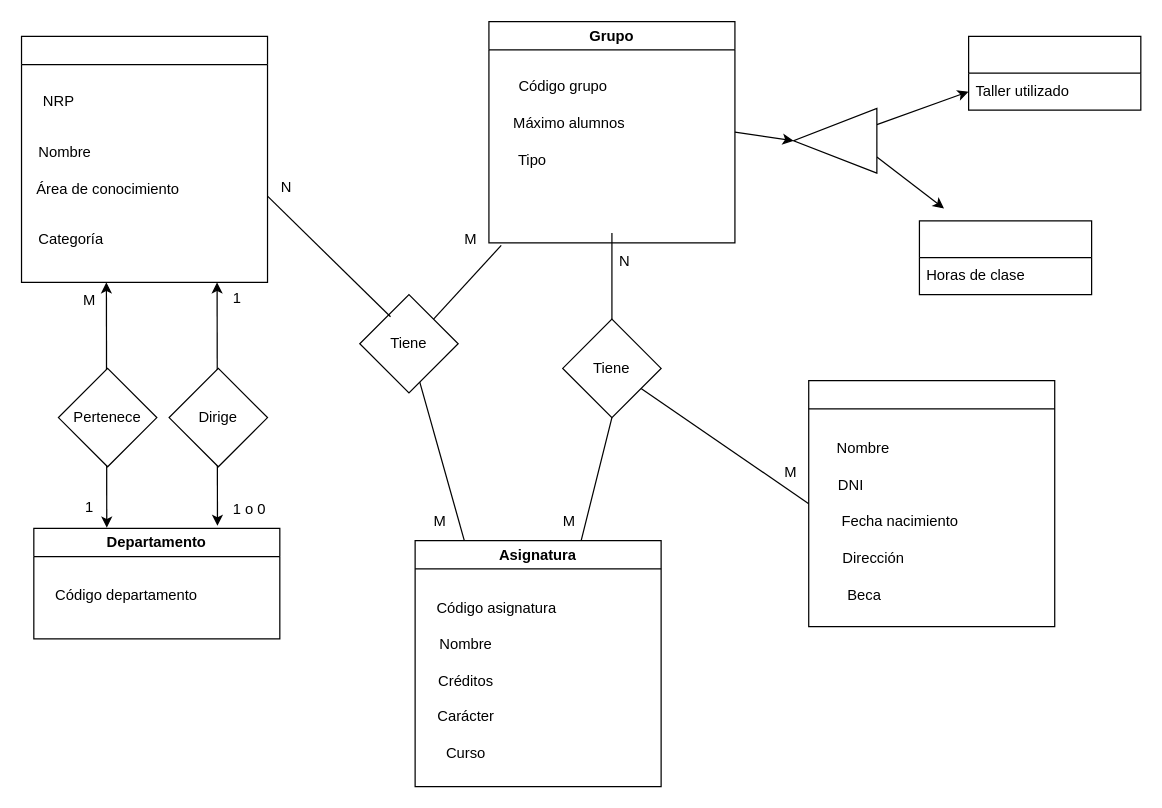
Some shapes in this 1162 by 808 pixel diagram are drawn without their labels. Each missing label, with the box of its shape:
Alumno: (807, 379, 1055, 627)
Profesor: (20, 35, 268, 282)
Práctica: (967, 35, 1141, 110)
Teoría: (918, 220, 1092, 295)
